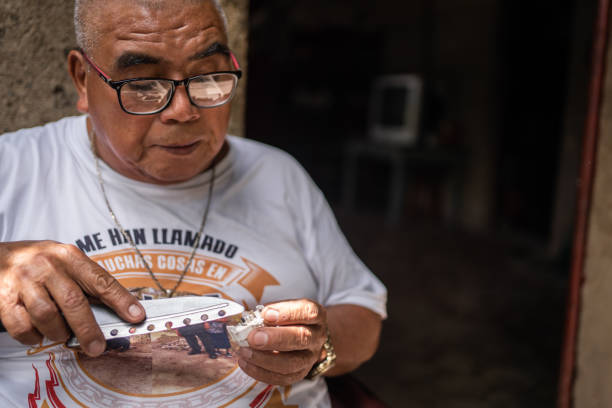knife: (67, 295, 245, 349)
